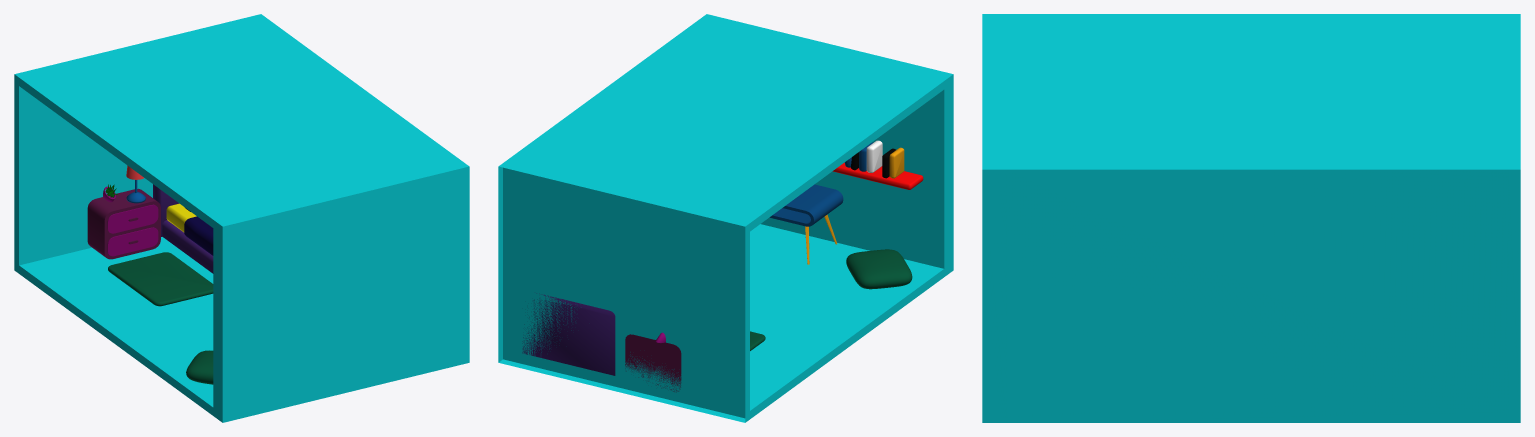
The model's file is SM_Room06.fbx.
The picture shows the model from 3 angles, left to right: view 1: azimuth 30°, elevation 25°; view 2: azimuth 150°, elevation 25°; view 3: azimuth 270°, elevation 25°; orthographic projection. The views are drawn at different scales.
Visible parts, largest first — view 1: Cube.216, Cube.260, Cube.211, Cube.250, Tapis rectangle.011, tABLEbASSE.006, Bed.028, Bed.029, Tiroirs.015, Tiroirs.016, pillow.015; view 2: Cube.260, Cube.211, Cube.250, Cube.216, Singlebed.001, tABLEbASSE.006, pillow.015, Bureau.001, Room06, Cube.228, Cube.231; view 3: Room06, Cube.260, Cube.216, Cube.250, Cube.211.
Part boxes in pixels (<box>): Cube.216: <box>213,159,469,422</box>; Cube.260: <box>19,17,459,227</box>; Cube.211: <box>14,14,265,273</box>; Cube.250: <box>19,237,213,415</box>; Tapis rectangle.011: <box>108,252,213,306</box>; tABLEbASSE.006: <box>87,188,160,259</box>; Bed.028: <box>166,203,213,255</box>; Bed.029: <box>162,220,213,273</box>; Tiroirs.015: <box>107,227,158,256</box>; Tiroirs.016: <box>107,204,158,233</box>; pillow.015: <box>186,350,213,384</box>; Cube.260: <box>503,21,944,231</box>; Cube.211: <box>498,163,749,422</box>; Cube.250: <box>503,224,944,418</box>; Cube.216: <box>697,14,953,276</box>; Singlebed.001: <box>522,293,615,375</box>; tABLEbASSE.006: <box>625,334,681,392</box>; pillow.015: <box>846,249,912,289</box>; Bureau.001: <box>769,184,843,226</box>; Room06: <box>503,168,519,354</box>; Cube.228: <box>832,162,923,189</box>; Cube.231: <box>866,140,882,172</box>; Room06: <box>1006,169,1508,411</box>; Cube.260: <box>1006,14,1508,179</box>; Cube.216: <box>982,14,1006,422</box>; Cube.250: <box>1006,412,1508,422</box>; Cube.211: <box>1508,14,1520,422</box>.
Bounding box in the file's own units: 55000 × 41807 × 80421.
